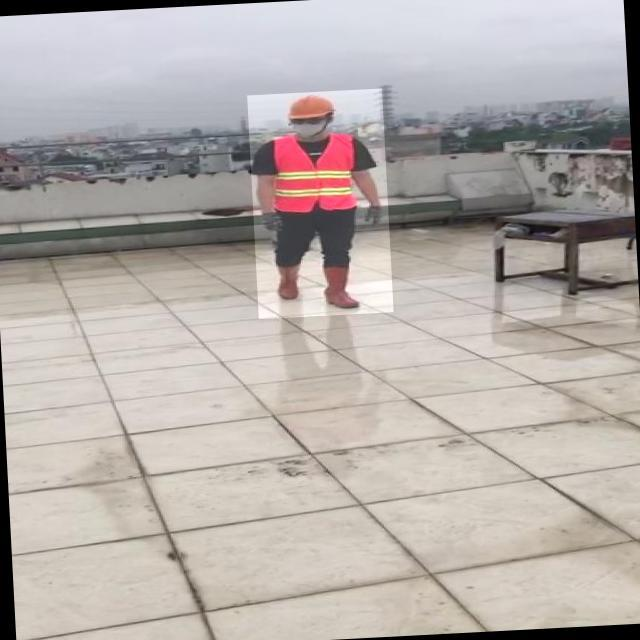Gloves: (263, 212, 284, 233), (366, 204, 385, 224)
Helmet: (284, 93, 339, 121)
Human: (247, 89, 394, 320)
Safety Boot: (323, 265, 359, 312), (276, 263, 301, 301)
Safety Vest: (273, 130, 359, 212)
